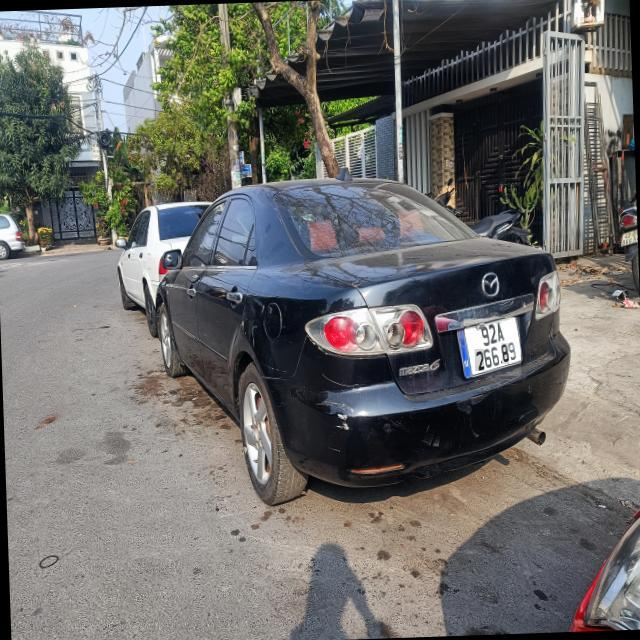car: (126, 166, 575, 509), (0, 208, 26, 267)
plate: (454, 313, 526, 381)
